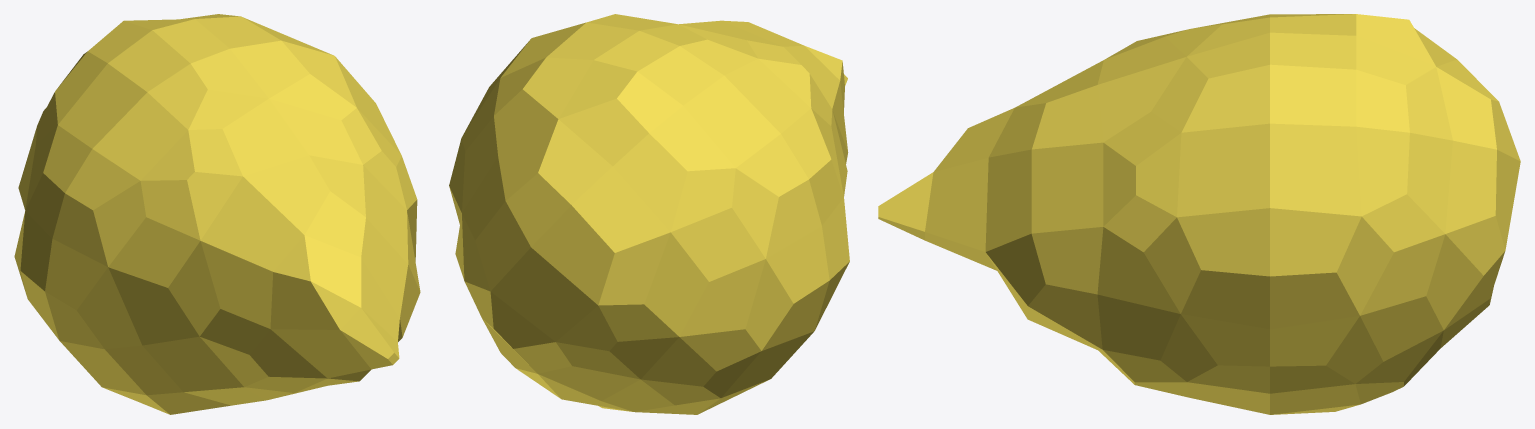
The model's file is little-muzzle-flare.glb.
3 views of the same model, side by side, from view 1: azimuth 30°, elevation 25°; view 2: azimuth 150°, elevation 25°; view 3: azimuth 270°, elevation 25° (orthographic). The views are drawn at different scales.
Visible parts, largest first — view 1: Cylinder.001; view 2: Cylinder.001; view 3: Cylinder.001.
Boxes of the visible parts, x1,y1,x2,y2 form: Cylinder.001: (14, 14, 420, 414); Cylinder.001: (449, 14, 849, 414); Cylinder.001: (878, 14, 1520, 414).
Size of the model in its own units: 0.2137 by 0.2079 by 0.3218.
